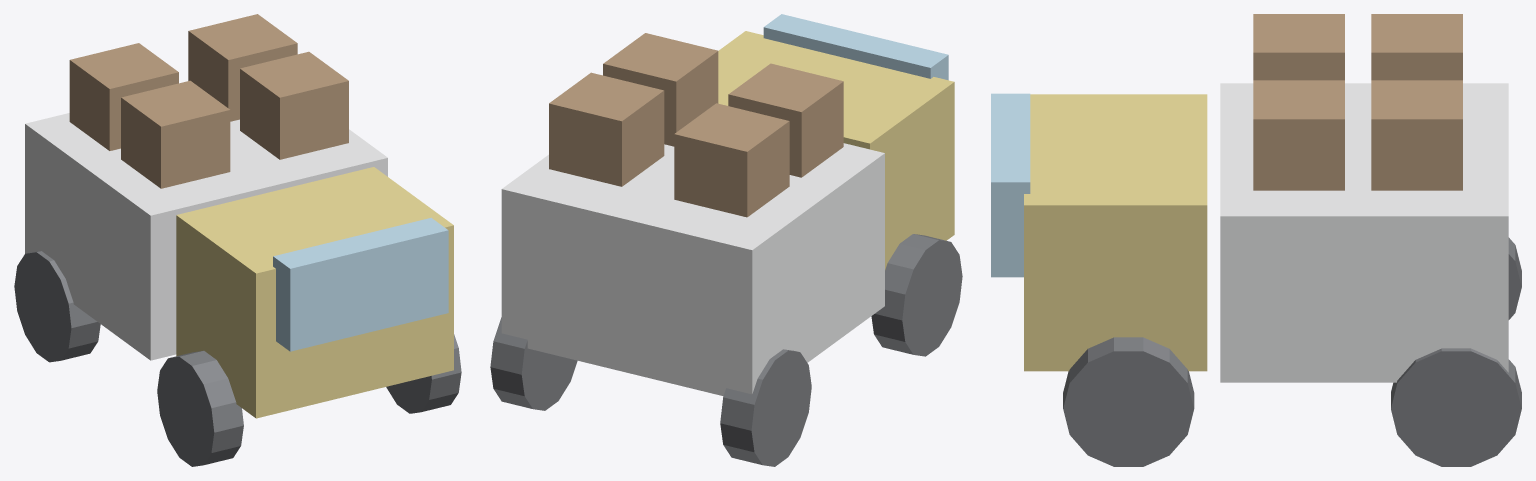
File: truck_food.glb
3 renders of one model, left to right at view 1: azimuth 30°, elevation 25°; view 2: azimuth 150°, elevation 25°; view 3: azimuth 270°, elevation 25°, orthographic. The views are drawn at different scales.
Visible parts, largest first — view 1: cab, cargo_box, windshield, food_crate_2, food_crate_3, wheel_0, food_crate_0, wheel_2, food_crate_1, wheel_1; view 2: cargo_box, cab, food_crate_0, food_crate_1, wheel_0, wheel_2, food_crate_2, food_crate_3, windshield, wheel_3; view 3: cargo_box, cab, wheel_1, wheel_3, food_crate_1, food_crate_3, windshield, food_crate_0, food_crate_2, wheel_2.
Boxes of the visible parts, x1=… form: cab: x1=176, y1=167, x2=453, y2=418; cargo_box: x1=25, y1=113, x2=387, y2=360; windshield: x1=273, y1=217, x2=448, y2=351; food_crate_2: x1=121, y1=80, x2=230, y2=188; food_crate_3: x1=240, y1=51, x2=348, y2=159; wheel_0: x1=157, y1=350, x2=243, y2=466; food_crate_0: x1=69, y1=43, x2=178, y2=150; wheel_2: x1=14, y1=251, x2=100, y2=362; food_crate_1: x1=188, y1=14, x2=297, y2=121; wheel_1: x1=386, y1=334, x2=461, y2=413; cargo_box: x1=501, y1=143, x2=884, y2=396; cab: x1=718, y1=31, x2=954, y2=269; food_crate_0: x1=674, y1=103, x2=789, y2=217; food_crate_1: x1=549, y1=72, x2=664, y2=186; wheel_0: x1=871, y1=234, x2=962, y2=356; wheel_2: x1=720, y1=349, x2=811, y2=466; food_crate_2: x1=728, y1=63, x2=843, y2=177; food_crate_3: x1=603, y1=33, x2=718, y2=146; windshield: x1=763, y1=14, x2=948, y2=80; wheel_3: x1=490, y1=317, x2=577, y2=410; cargo_box: x1=1220, y1=83, x2=1508, y2=382; cab: x1=1024, y1=94, x2=1207, y2=371; wheel_1: x1=1063, y1=337, x2=1194, y2=466; wheel_3: x1=1391, y1=348, x2=1521, y2=466; food_crate_1: x1=1371, y1=80, x2=1462, y2=190; food_crate_3: x1=1253, y1=80, x2=1344, y2=190; windshield: x1=991, y1=93, x2=1030, y2=277; food_crate_0: x1=1371, y1=14, x2=1462, y2=80; food_crate_2: x1=1253, y1=14, x2=1344, y2=80; wheel_2: x1=1508, y1=237, x2=1521, y2=319.
Size of the model in its own units: 0.25 by 0.2787 by 0.405.
